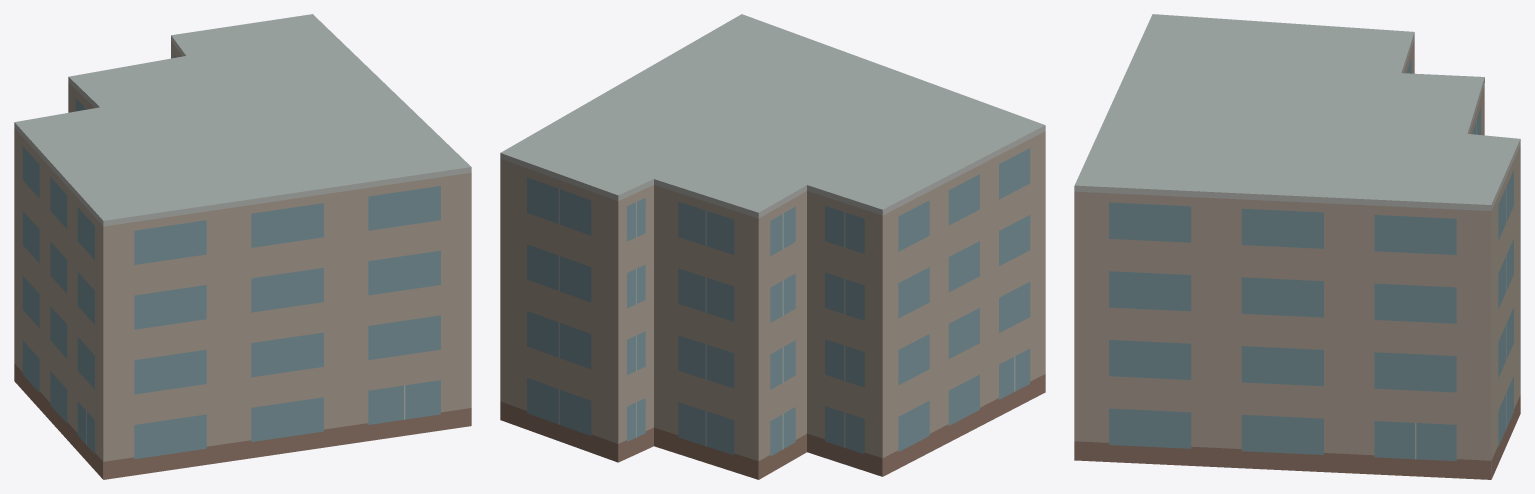
The model's file is survey-upis-32868322.glb.
3 views of the same model, side by side, from view 1: azimuth 30°, elevation 25°; view 2: azimuth 150°, elevation 25°; view 3: azimuth 270°, elevation 25° (orthographic). The views are drawn at different scales.
Visible parts, largest first — view 1: survey-upis-32868322.tmp; view 2: survey-upis-32868322.tmp; view 3: survey-upis-32868322.tmp.
Boxes of the visible parts, <box> form: survey-upis-32868322.tmp: <box>14,14,471,479</box>; survey-upis-32868322.tmp: <box>500,14,1045,479</box>; survey-upis-32868322.tmp: <box>1074,14,1520,479</box>.
Size of the model in its own units: 16.71 by 11.2 by 16.49.
